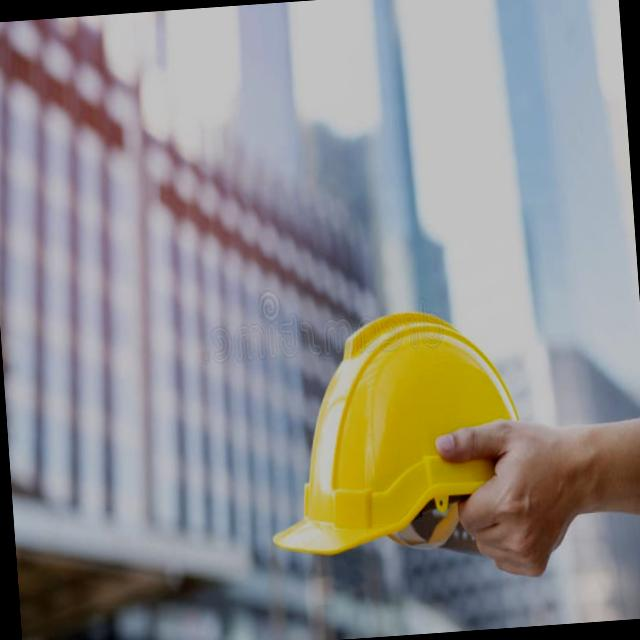helmet: (245, 316, 528, 567)
